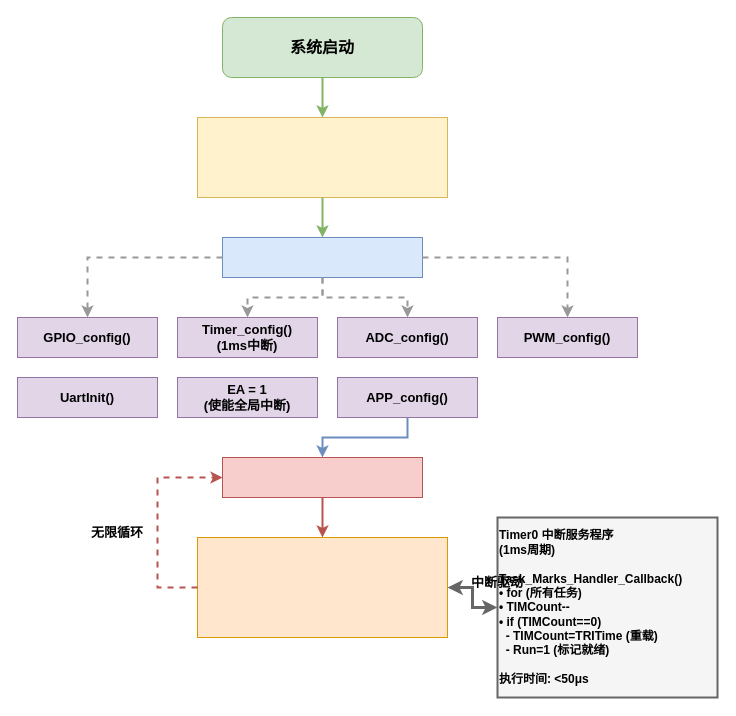
This 736x716 diagram has some shape labels left out. Each missing label, with the centre of its shape:
"SYS_Init()" belongs at point (322, 257).
"Task_Pro_Handler_Callback() • 扫描所有任务 • 检查Run标志 • 执行就绪任务 • 清除Run标志" belongs at point (322, 587).
"主循环 while(1)" belongs at point (322, 477).
"硬件初始化 WTST=0 (CPU最高速度) EAXFR=1 (扩展寄存器) CKCON=0 (高速访问XRAM)" belongs at point (322, 157).
